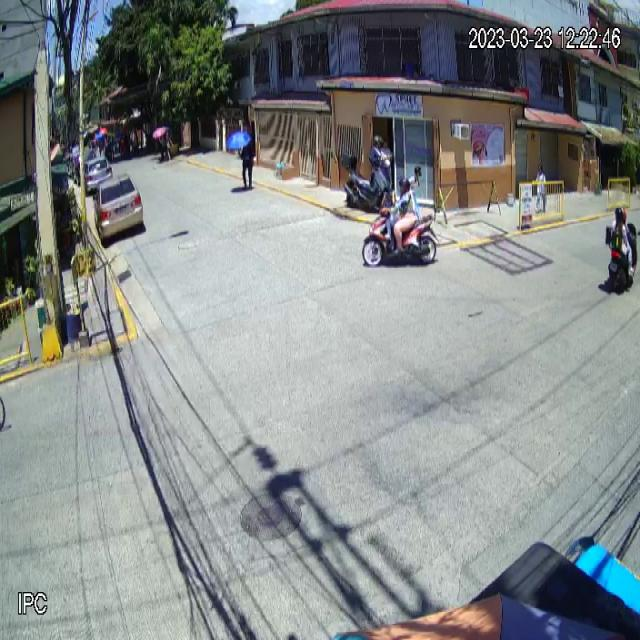Motorcycle: (362, 206, 440, 266)
